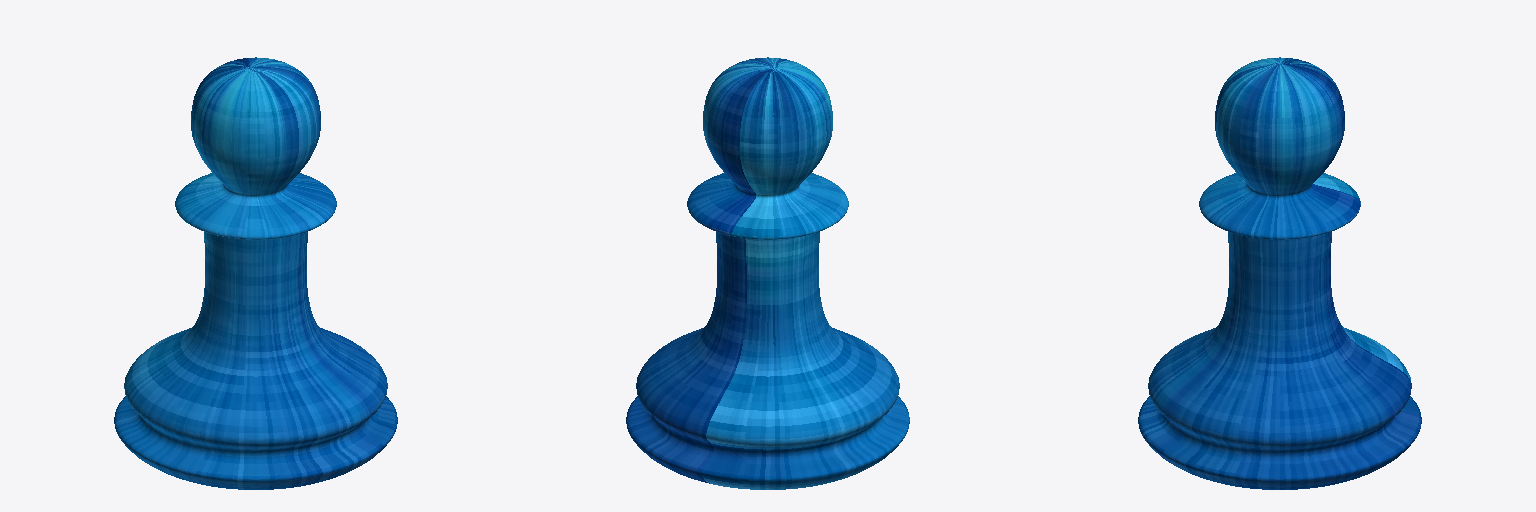
The picture shows the model from 3 angles: view 1: azimuth 30°, elevation 25°; view 2: azimuth 150°, elevation 25°; view 3: azimuth 270°, elevation 25°; orthographic projection.
Parts seen in each view (by area): view 1: mesh01; view 2: mesh01; view 3: mesh01.
Part boxes in pixels (x1,y1,x2,y2): mesh01: (114, 57, 397, 489); mesh01: (626, 57, 909, 489); mesh01: (1138, 57, 1421, 489).
Size of the model in its own units: 8 by 11.8 by 8.
1 materials, 1 textured.